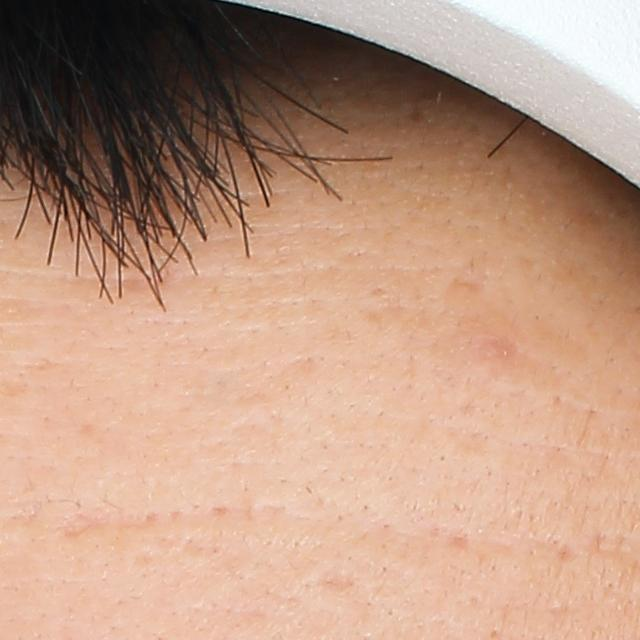atrophic_scar: (300, 561, 357, 594), (446, 525, 475, 554), (556, 535, 578, 565)
